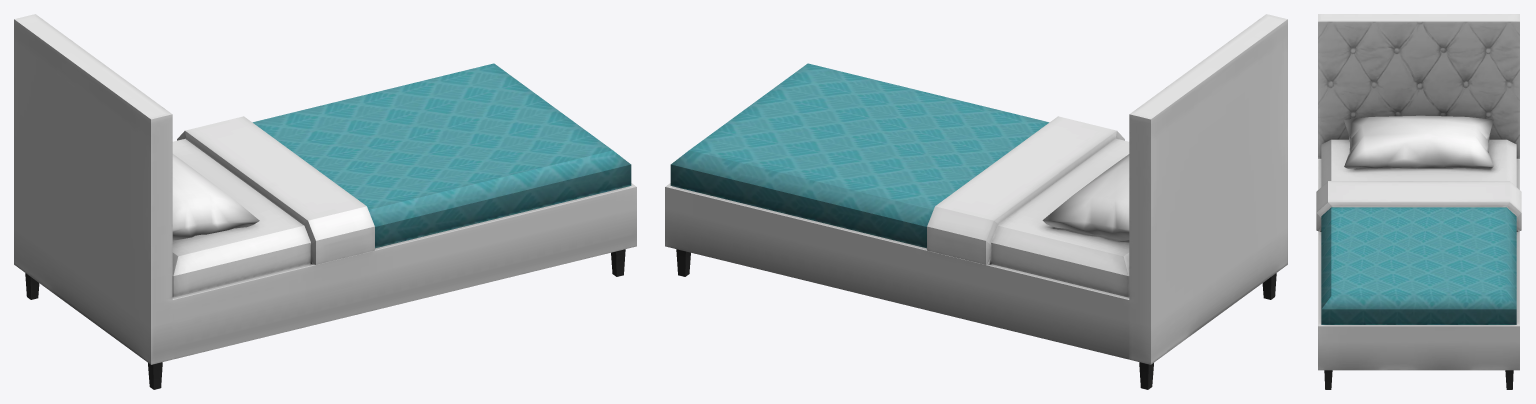
The model's file is bed_single01.glb.
3 renders of one model, left to right at view 1: azimuth 30°, elevation 25°; view 2: azimuth 150°, elevation 25°; view 3: azimuth 270°, elevation 25°, orthographic. The views are drawn at different scales.
Visible parts, largest first — view 1: single_bed01; view 2: single_bed01; view 3: single_bed01.
Part boxes in pixels (x1,y1,x2,y2): single_bed01: (14, 14, 636, 389); single_bed01: (665, 14, 1287, 389); single_bed01: (1316, 14, 1521, 389).
Size of the model in its own units: 1.79 by 0.9709 by 0.8856.
1 material, 1 textured.
